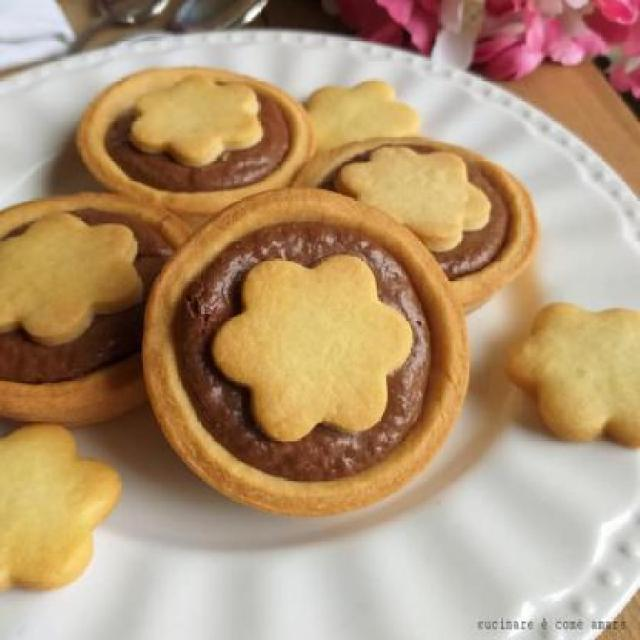Merendine packaged: (142, 186, 470, 514), (1, 191, 202, 426), (284, 136, 538, 318), (79, 65, 313, 210)
